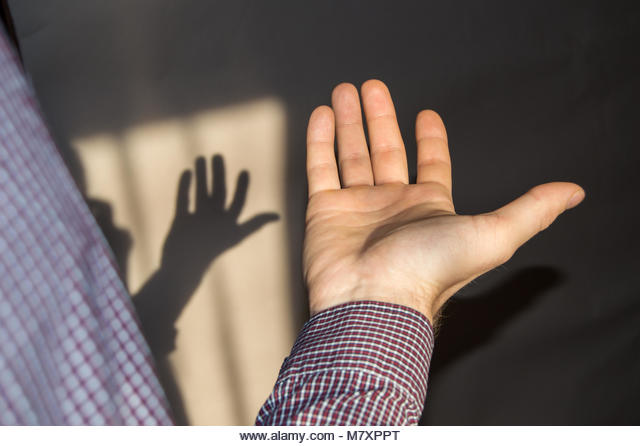hand: (266, 66, 595, 296)
